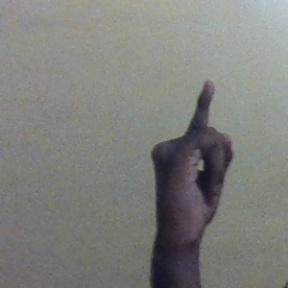I: (150, 78, 235, 234)
